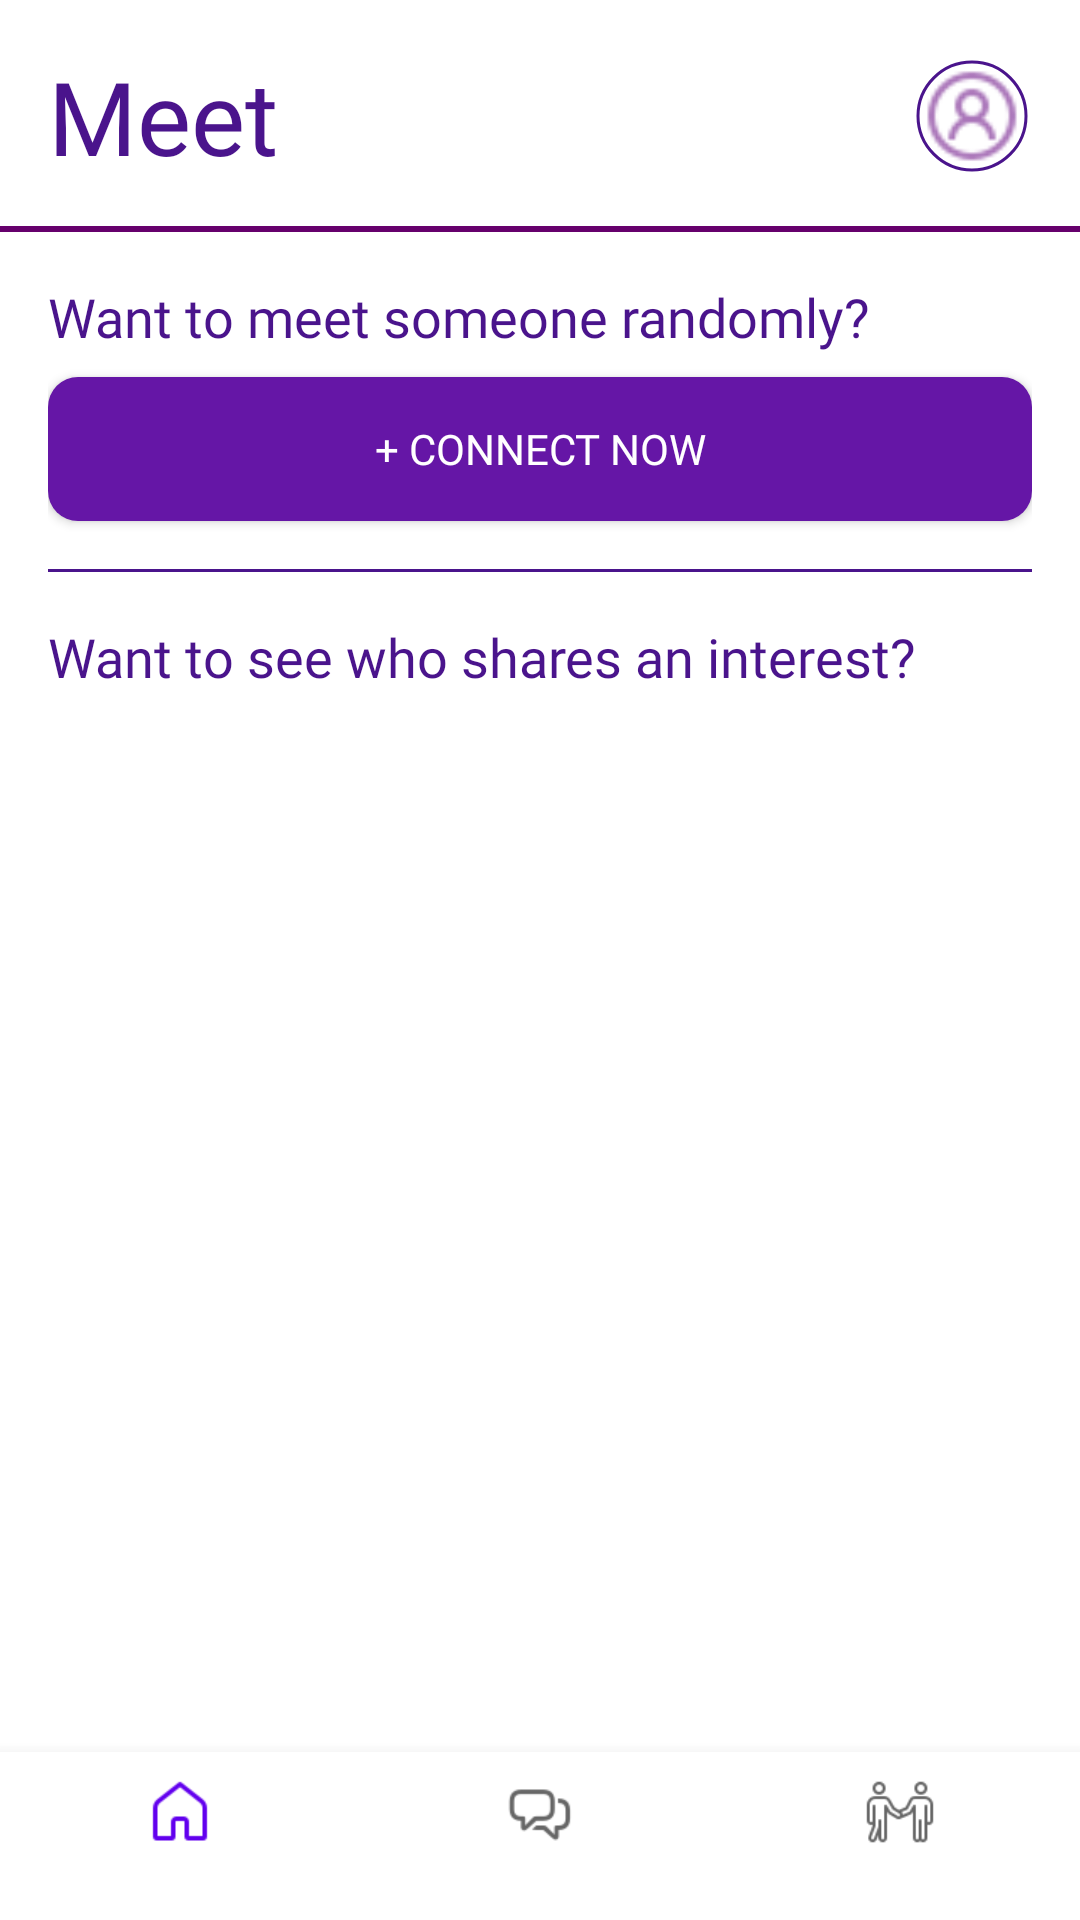

Named icons in this screenshot (1080x1920) and their centers, (x=x, y=y):
profile: (x=972, y=116)
